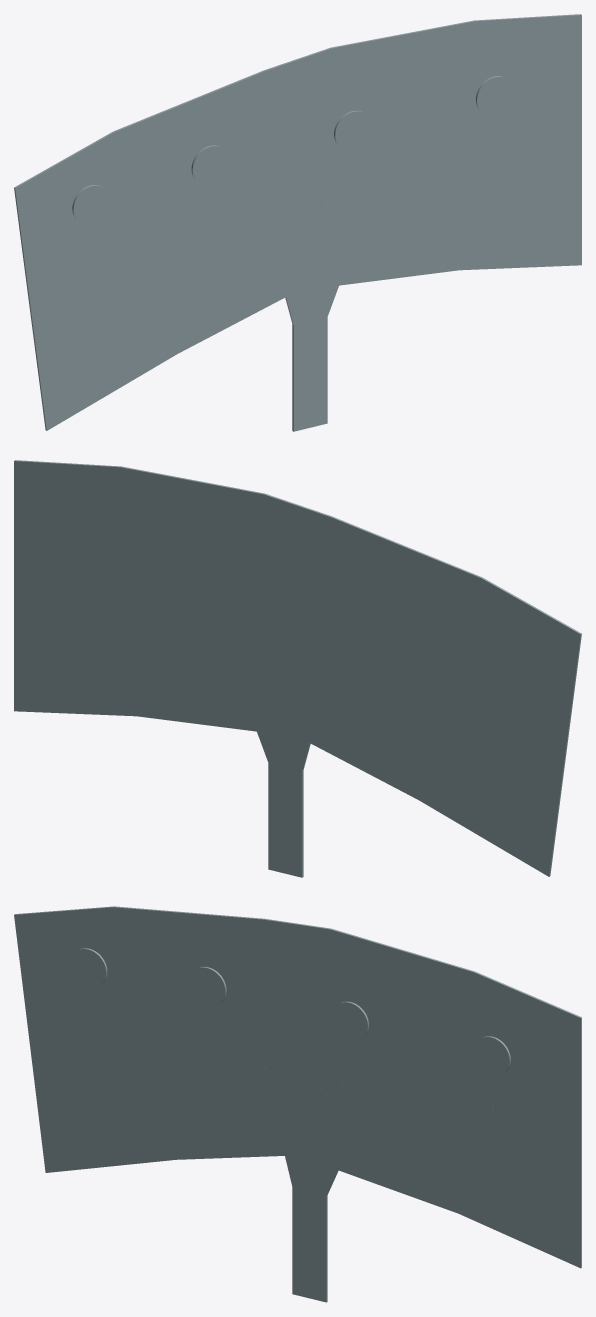
Rendered from 1.Main Vertiport Rectangle.fbx.
The picture shows the model from 3 angles, top to bottom: view 1: azimuth 30°, elevation 25°; view 2: azimuth 150°, elevation 25°; view 3: azimuth 330°, elevation 25°; orthographic projection.
Visible parts, largest first — view 1: Body1 (×2), Body3, Body2, Body4; view 2: Body1; view 3: Body1 (×2), Body2, Body3, Body4.
Part boxes in pixels (x1,y1,x2,y2): Body1 (×2): [14, 14, 581, 431]; Body3: [334, 110, 371, 150]; Body2: [191, 145, 228, 184]; Body4: [476, 76, 513, 115]; Body1: [14, 460, 581, 877]; Body1 (×2): [14, 906, 581, 1302]; Body2: [189, 966, 226, 1006]; Body3: [331, 1001, 368, 1041]; Body4: [473, 1036, 510, 1075].
Bounding box in the file's own units: 282 × 178 × 2.
